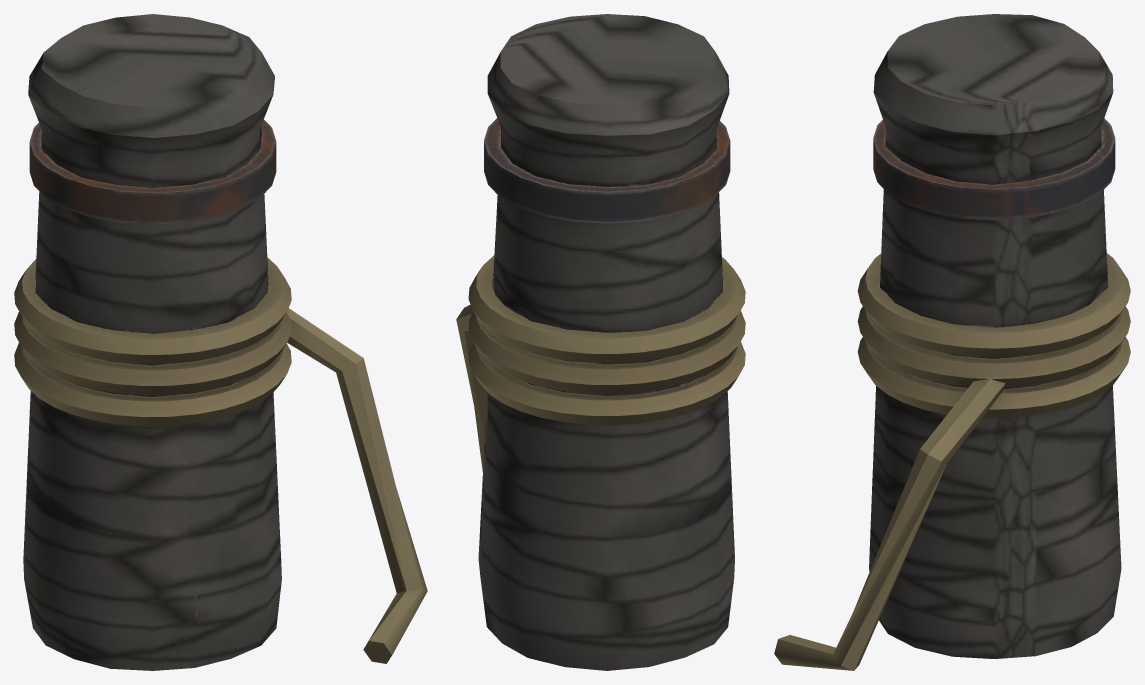
File: dock_post.glb
3 renders of one model, left to right at view 1: azimuth 30°, elevation 25°; view 2: azimuth 150°, elevation 25°; view 3: azimuth 270°, elevation 25°, orthographic.
Visible parts, largest first — view 1: dock_post; view 2: dock_post; view 3: dock_post.
Part boxes in pixels (x1,y1,x2,y2): dock_post: (14, 14, 427, 670); dock_post: (456, 14, 745, 670); dock_post: (774, 14, 1130, 670).
Bounding box in the file's own units: 0.5346 × 0.9 × 0.5302.
Materials: 1 (1 with a texture image).
